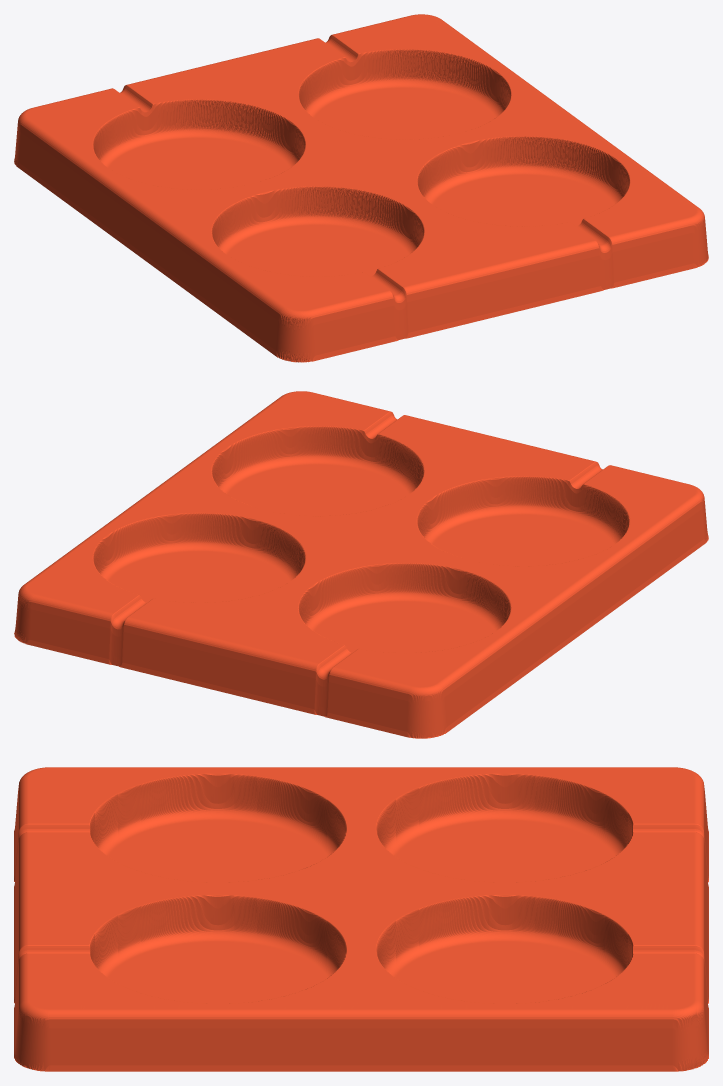
Rendered from mold.glb.
3 views of the same model, one above another, from view 1: azimuth 30°, elevation 25°; view 2: azimuth 150°, elevation 25°; view 3: azimuth 270°, elevation 25° (orthographic). The views are drawn at different scales.
Visible parts, largest first — view 1: geometry_0; view 2: geometry_0; view 3: geometry_0.
Part boxes in pixels (box(x1,y1,x2,y2)): geometry_0: box(14, 14, 708, 362); geometry_0: box(14, 391, 708, 738); geometry_0: box(14, 767, 708, 1071).
Bounding box in the file's own units: 0.1497 × 0.0155 × 0.1735.
